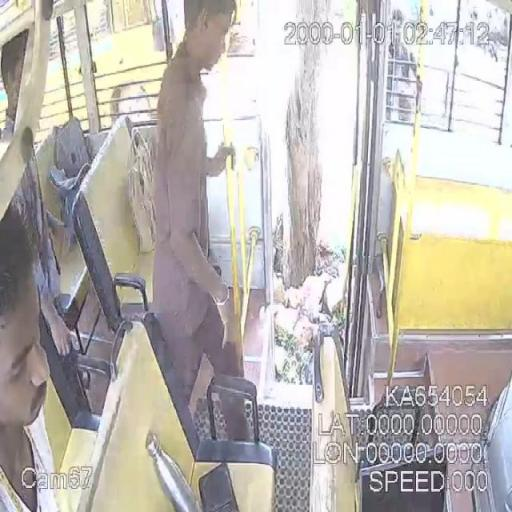persona: (147, 1, 244, 436), (0, 200, 60, 510)
